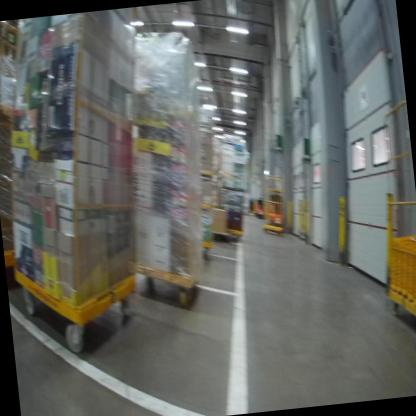pallet_truck: (267, 189, 285, 234), (254, 193, 269, 224)
